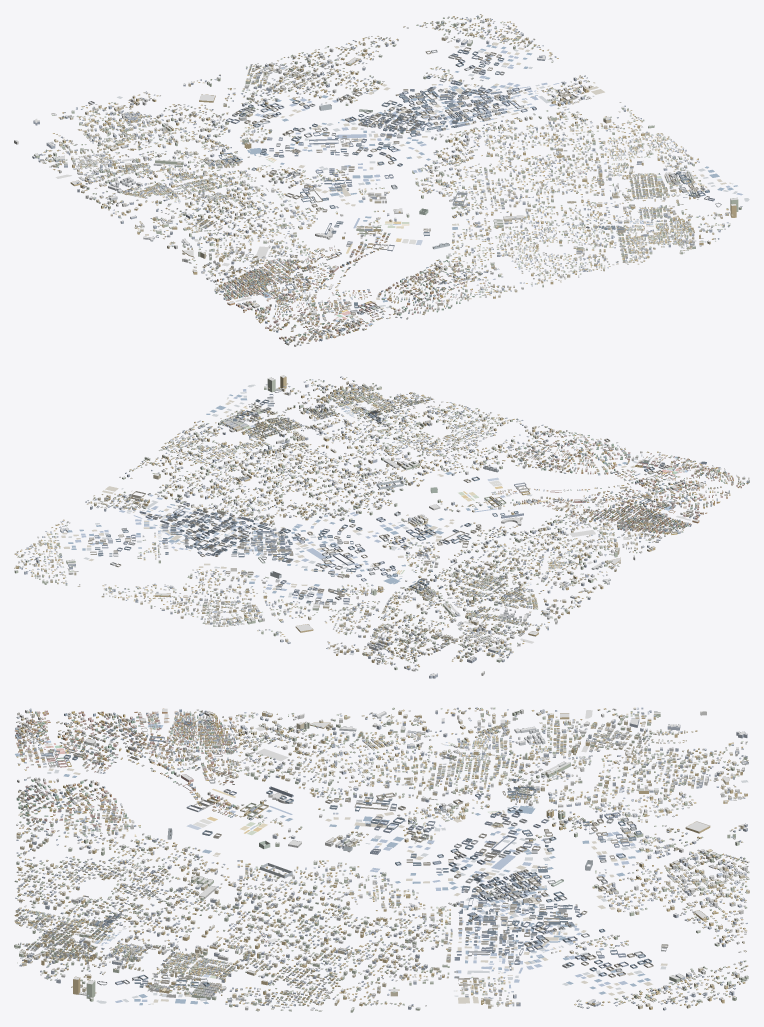
3 views of the same model, one above another, from view 1: azimuth 30°, elevation 25°; view 2: azimuth 150°, elevation 25°; view 3: azimuth 270°, elevation 25° (orthographic). The views are drawn at different scales.
Visible parts, largest first — view 1: apartment, house, roof_zinc, roof_flat, factory, shop; view 2: apartment, house, roof_zinc, roof_flat, factory, shop; view 3: apartment, house, roof_zinc, roof_flat, factory, shop, glass.
Part boxes in pixels (bbox=[...]): apartment: bbox=[14, 15, 741, 346]; house: bbox=[38, 14, 742, 336]; roof_zinc: bbox=[37, 14, 749, 336]; roof_flat: bbox=[14, 16, 740, 345]; factory: bbox=[88, 47, 721, 331]; shop: bbox=[78, 26, 688, 335]; apartment: bbox=[14, 376, 749, 678]; house: bbox=[14, 376, 718, 671]; roof_zinc: bbox=[15, 377, 718, 670]; roof_flat: bbox=[15, 375, 749, 675]; factory: bbox=[88, 389, 706, 661]; shop: bbox=[77, 415, 725, 651]; apartment: bbox=[14, 708, 749, 1012]; house: bbox=[14, 707, 749, 1006]; roof_zinc: bbox=[15, 707, 748, 1005]; roof_flat: bbox=[14, 708, 749, 1011]; factory: bbox=[15, 721, 748, 987]; shop: bbox=[17, 718, 746, 991]; glass: bbox=[167, 824, 596, 886].
Size of the model in its own units: 1.41e+08 by 3268637 by 1.46e+08.
